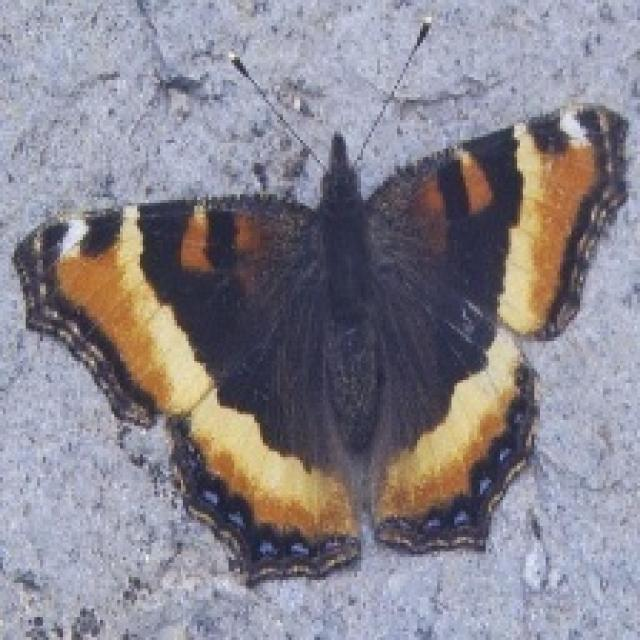butterfly: (9, 20, 628, 589)
